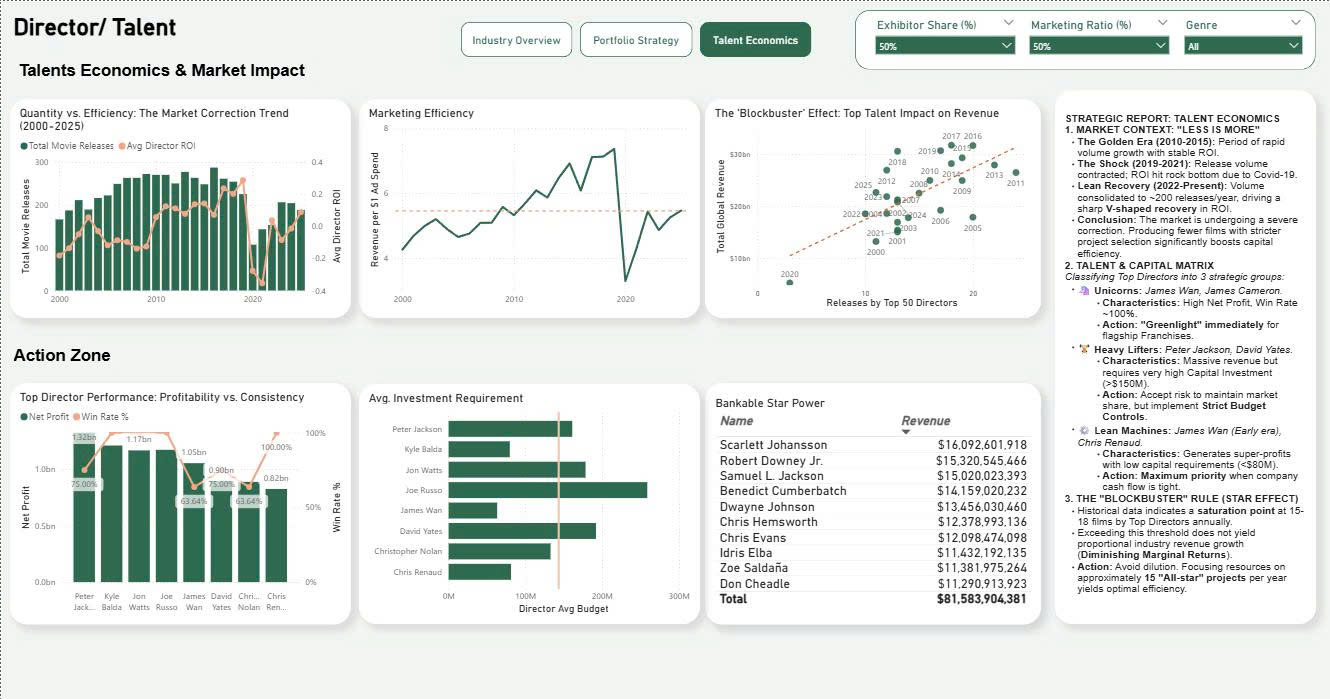

This screenshot's page, from the dashboard's own definition file:
{"tool":"powerbi","page":{"name":"Duplicate of Page 1","canvas":[1900,1000],"ordinal":2},"visuals":[{"type":"textbox","box":[1006.2,545.3,479.7,344.8],"z":0},{"type":"shape","box":[1220,12.7,658.2,85.5],"z":1000},{"type":"textbox","box":[12.5,12.5,630,227.5],"z":2000},{"type":"textbox","box":[1505,127.5,372.5,762.5],"z":3000},{"type":"slicer","fields":{"Values":["Ty_Le_Marketing.Ty_Le_Marketing"]},"box":[1459,19,221,92],"z":4000},{"type":"slicer","fields":{"Values":["Ty_Le_Rap.Ty_Le_Rap"]},"box":[1238,19,221,108],"z":5000},{"type":"lineChart","title":"Marketing Efficiency","fields":{"Category":["Dim_Movies.year"],"Y":["Fact_Financials.Revenue_Per_Mkt_Dollar"]},"box":[511.5,140.5,487.2,312.9],"z":6000},{"type":"slicer","fields":{"Values":["Dim_Genres.genre_name"]},"box":[1680,19,190,92],"z":7000},{"type":"lineClusteredColumnComboChart","title":"Quantity vs. Efficiency: The Market Correction Trend (2000-2025)","fields":{"Category":["Dim_Movies.year"],"Y2":["Fact_Financials.Director Avg ROI"],"Y":["Dim_Directors.movie_count"]},"box":[13.1,140.5,487.2,312.9],"z":8000},{"type":"scatterChart","title":"The ''Blockbuster'' Effect: Top Talent Impact on Revenue","fields":{"Category":["Dim_Movies.year"],"X":["Dim_Directors.Top_Director_Movies_Count"],"Y":["Sum(Fact_Financials.revenue)"]},"box":[1006.2,140.5,479.7,312.9],"z":9000},{"type":"lineClusteredColumnComboChart","title":"Top Director Performance: Profitability vs. Consistency","fields":{"Category":["Dim_Directors.director_name"],"Y":["Fact_Financials.Real_Net_Profit"],"Y2":["Fact_Financials.Win Rate %"]},"box":[13.1,545.3,487.2,344.8],"z":10000},{"type":"clusteredBarChart","title":"Avg. Investment Requirement","fields":{"Category":["Dim_Directors.director_name"],"Y":["Fact_Financials.Director Avg Budget"]},"box":[511.5,547.1,487.2,342.9],"z":11000},{"type":"tableEx","title":"Bankable Star Power","fields":{"Values":["Dim_Actors.actor_name","Sum(Fact_Financials.revenue)"]},"box":[1015.6,564,470.3,350.4],"z":12000},{"type":"textbox","box":[12.5,80,517.5,75],"z":13000},{"type":"textbox","box":[13.1,487.2,539.6,104.9],"z":14000},{"type":"shape","box":[657.6,30.3,159.1,50],"z":15000}]}

Visuals, with their boxes in screenshot pixels (x1, y1, x2, y2), scaled from the page's 1900x1000 canvas onto the 1330x699 screenshot:
textbox: pyautogui.locateOnScreen(704, 381, 1040, 622)
shape: pyautogui.locateOnScreen(854, 9, 1315, 69)
textbox: pyautogui.locateOnScreen(9, 9, 450, 168)
textbox: pyautogui.locateOnScreen(1054, 89, 1314, 622)
slicer - Ty_Le_Marketing.Ty_Le_Marketing: pyautogui.locateOnScreen(1021, 13, 1176, 78)
slicer - Ty_Le_Rap.Ty_Le_Rap: pyautogui.locateOnScreen(867, 13, 1021, 89)
"Marketing Efficiency" lineChart: pyautogui.locateOnScreen(358, 98, 699, 317)
slicer - Dim_Genres.genre_name: pyautogui.locateOnScreen(1176, 13, 1309, 78)
"Quantity vs. Efficiency: The Market Correction Trend (2000-2025)" lineClusteredColumnComboChart: pyautogui.locateOnScreen(9, 98, 350, 317)
"The ''Blockbuster'' Effect: Top Talent Impact on Revenue" scatterChart: pyautogui.locateOnScreen(704, 98, 1040, 317)
"Top Director Performance: Profitability vs. Consistency" lineClusteredColumnComboChart: pyautogui.locateOnScreen(9, 381, 350, 622)
"Avg. Investment Requirement" clusteredBarChart: pyautogui.locateOnScreen(358, 382, 699, 622)
"Bankable Star Power" tableEx: pyautogui.locateOnScreen(711, 394, 1040, 639)
textbox: pyautogui.locateOnScreen(9, 56, 371, 108)
textbox: pyautogui.locateOnScreen(9, 341, 387, 414)
shape: pyautogui.locateOnScreen(460, 21, 572, 56)
